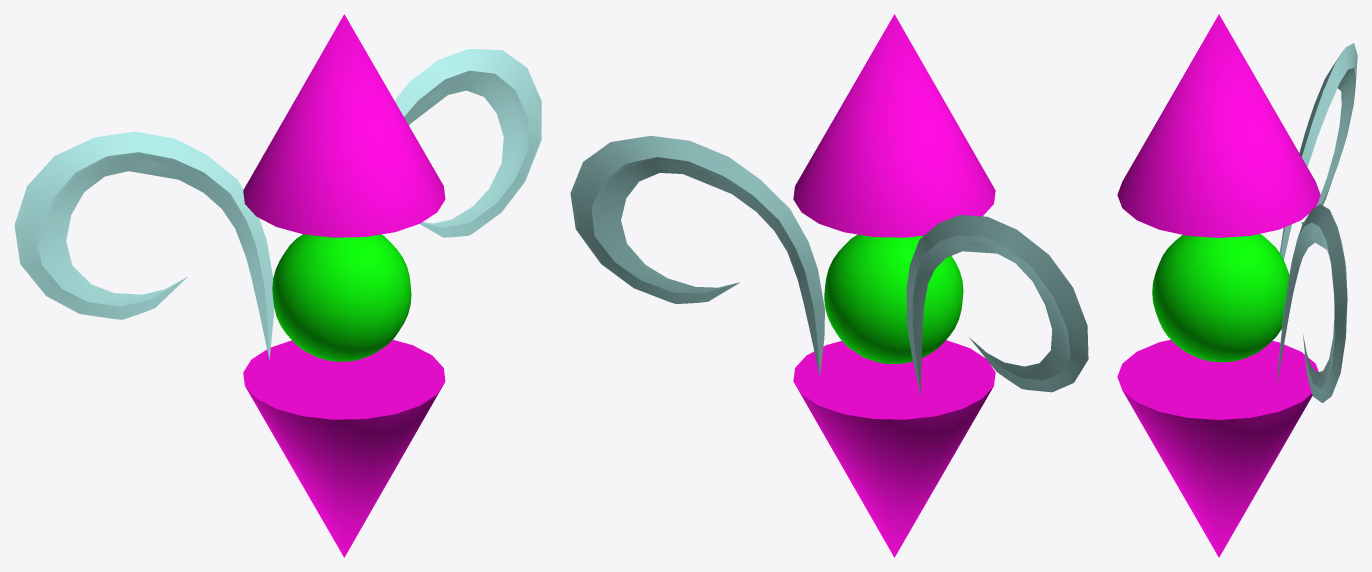
File: Enemy_BallBend.fbx
The picture shows the model from 3 angles, left to right: view 1: azimuth 30°, elevation 25°; view 2: azimuth 150°, elevation 25°; view 3: azimuth 270°, elevation 25°; orthographic projection.
Parts seen in each view (by area): view 1: polySurface27; view 2: polySurface27; view 3: polySurface27.
Part boxes in pixels (x1,y1,x2,y2): polySurface27: (14, 14, 541, 557); polySurface27: (570, 14, 1088, 557); polySurface27: (1117, 14, 1357, 557).
Size of the model in its own units: 8.61 by 8.57 by 3.43.
1 material, 1 textured.
